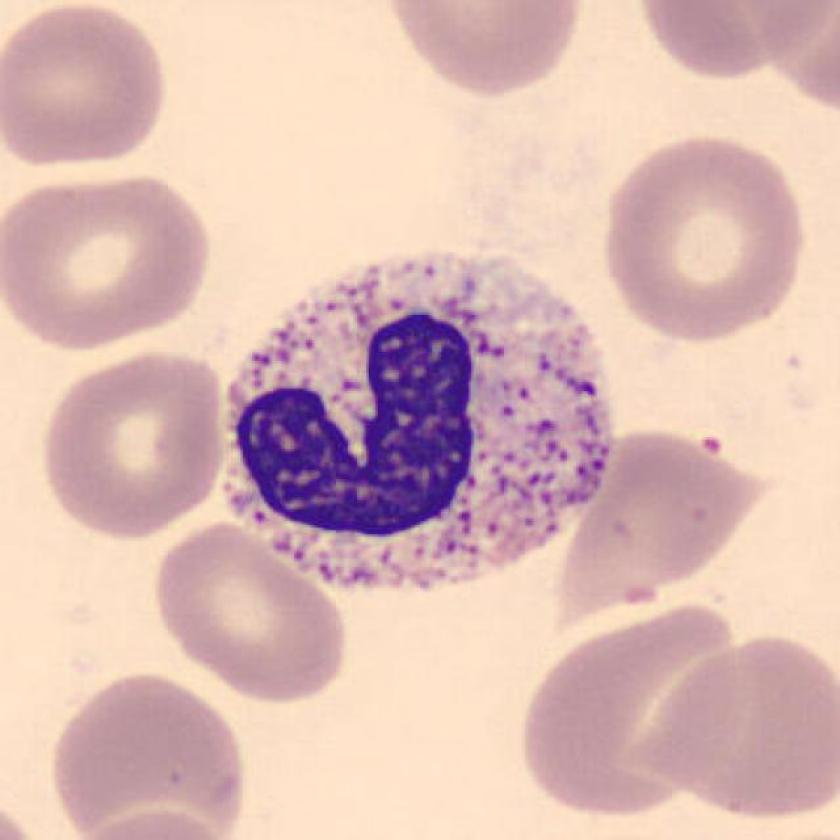neutrophil: (221, 256, 612, 583)
